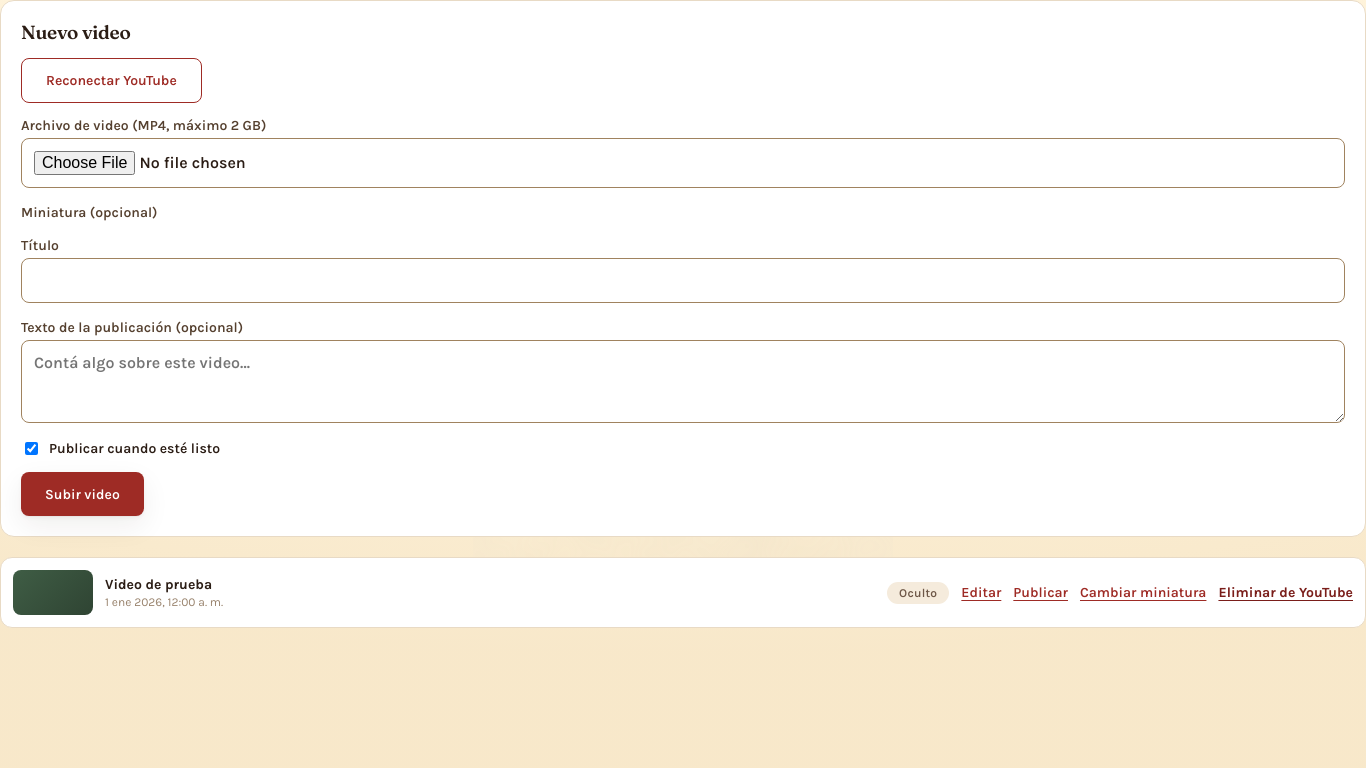
Test: VideoManager estados terminales › explica por que no se pudo publicar en vez de un error generico
This screenshot has width=1366, height=768.
Click the button "Publicar". click: point(1041, 593)
box: [1013,584,1068,601]
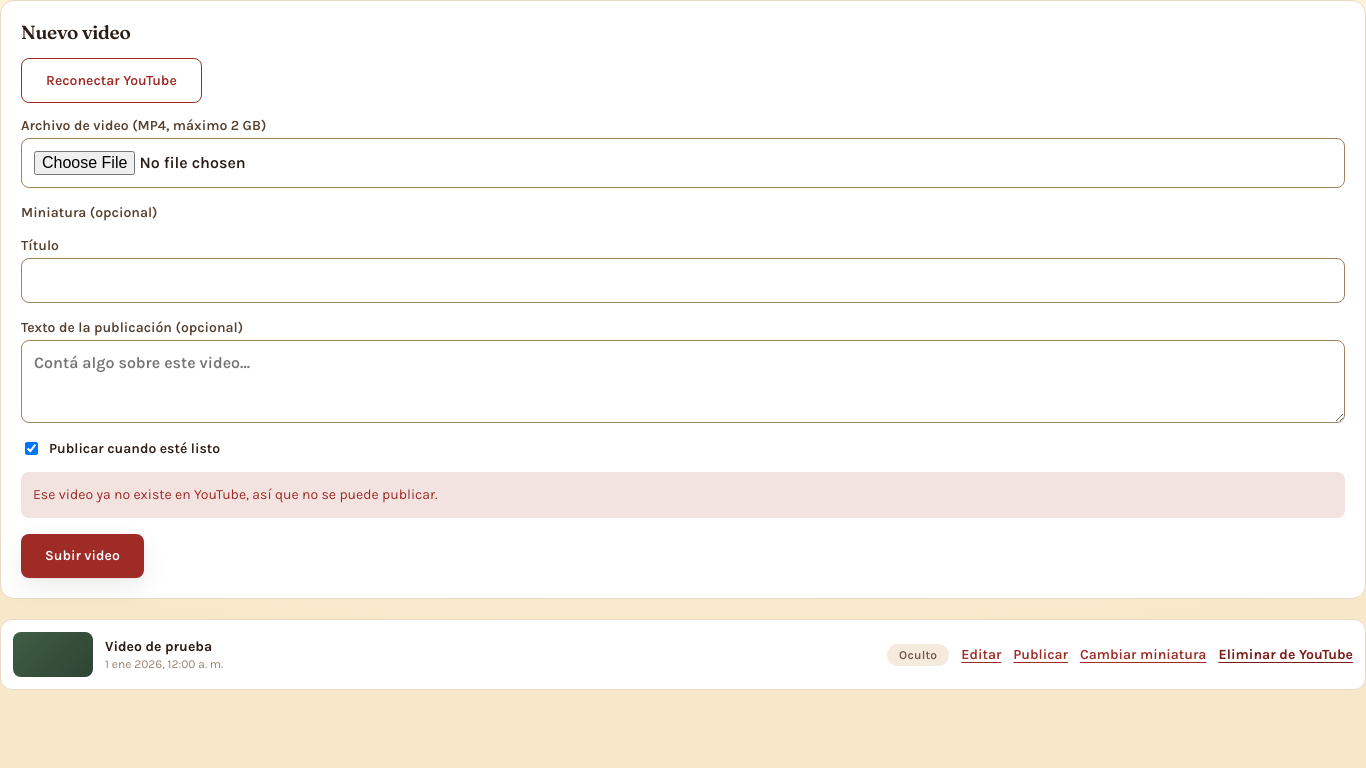
Now the text "ya no existe en YouTube" is shown, box [33,486,438,503]
